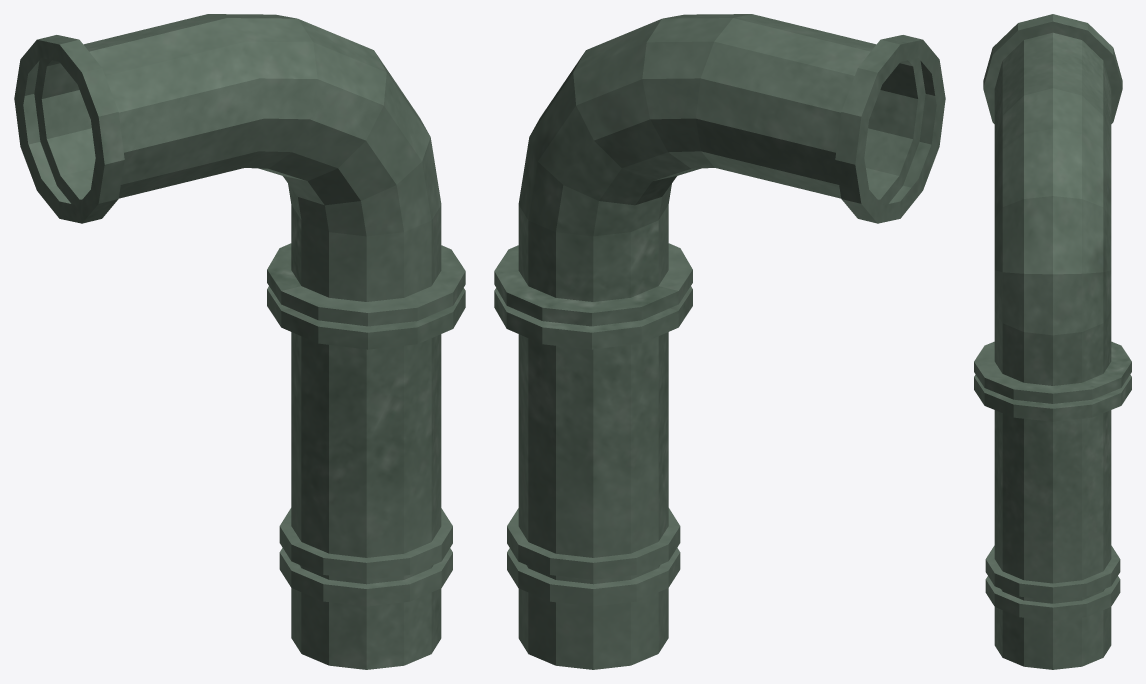
The model's file is trubag.fbx.
3 views of the same model, side by side, from view 1: azimuth 30°, elevation 25°; view 2: azimuth 150°, elevation 25°; view 3: azimuth 270°, elevation 25° (orthographic). The views are drawn at different scales.
Parts seen in each view (by area): view 1: truba4; view 2: truba4; view 3: truba4.
Part boxes in pixels (bbox=[...]): truba4: bbox=[14, 14, 465, 669]; truba4: bbox=[494, 14, 945, 669]; truba4: bbox=[974, 14, 1131, 669].
Bounding box in the file's own units: 16.13 × 26.28 × 7.29.
Materials: 1 (1 with a texture image).
